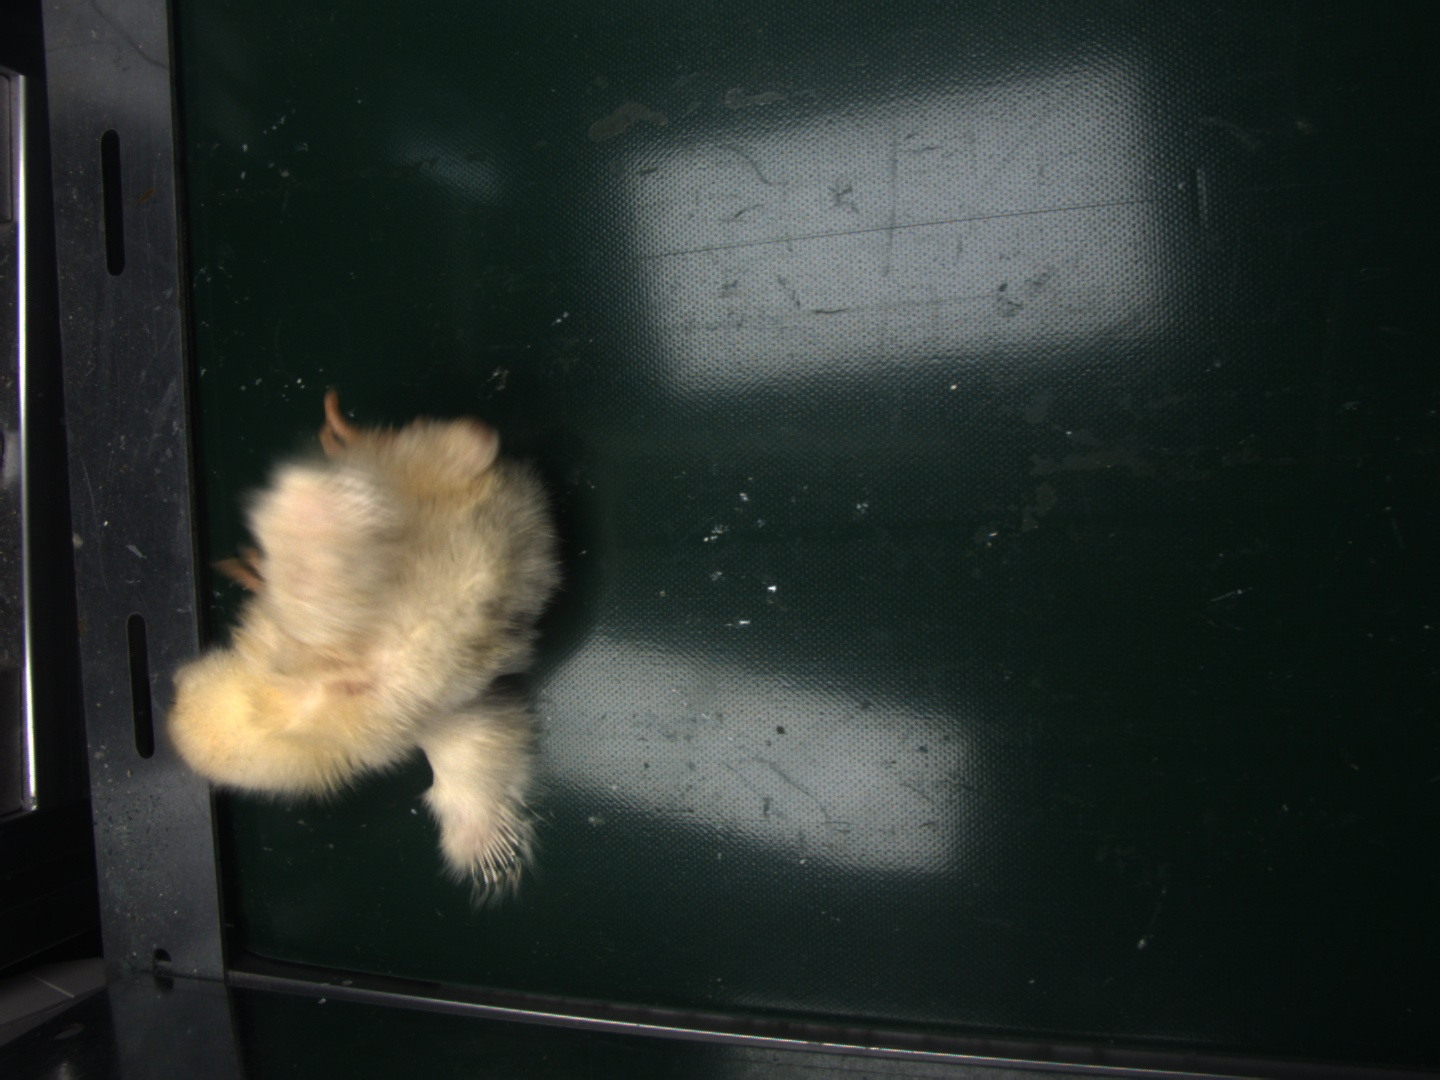male: (473, 810, 524, 886)
